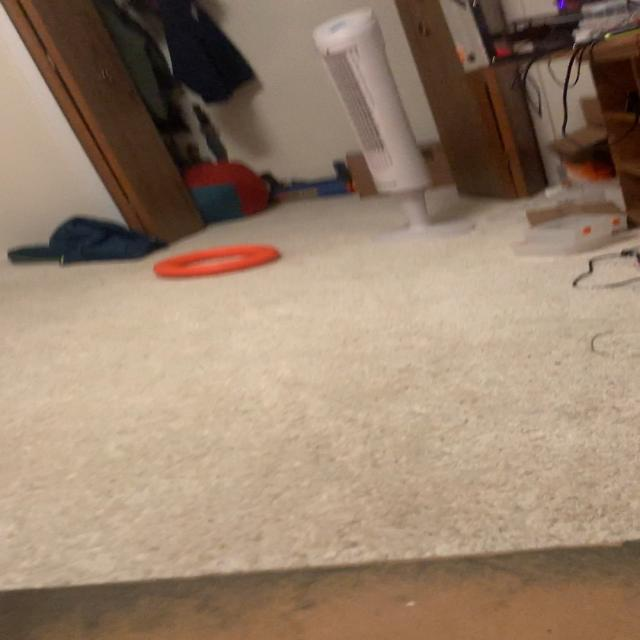notes: (156, 247, 279, 280)
